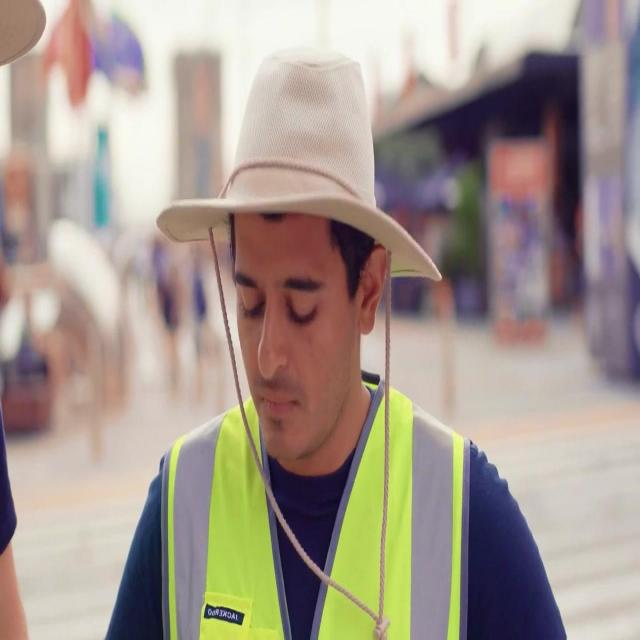Reflective-Jacket: (160, 385, 479, 636)
Safety-Helmet: (1, 1, 48, 84)
